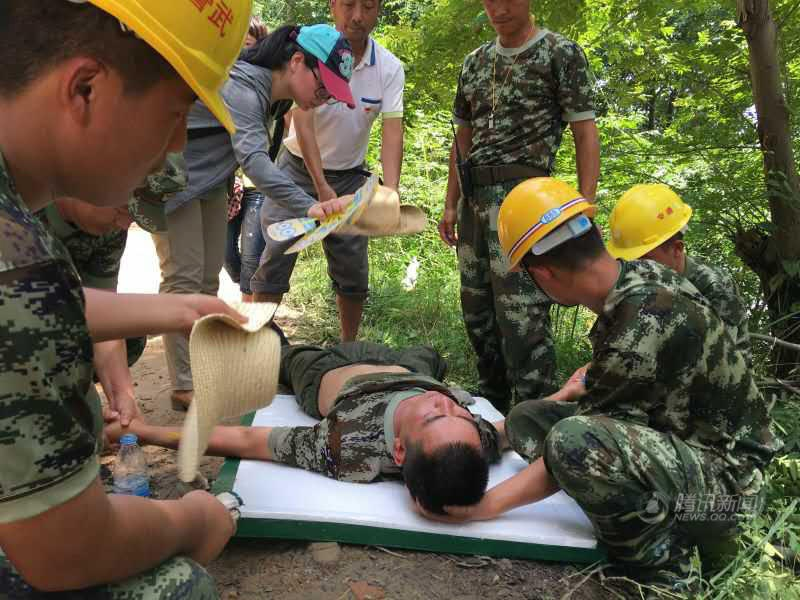falling: (109, 310, 533, 498)
